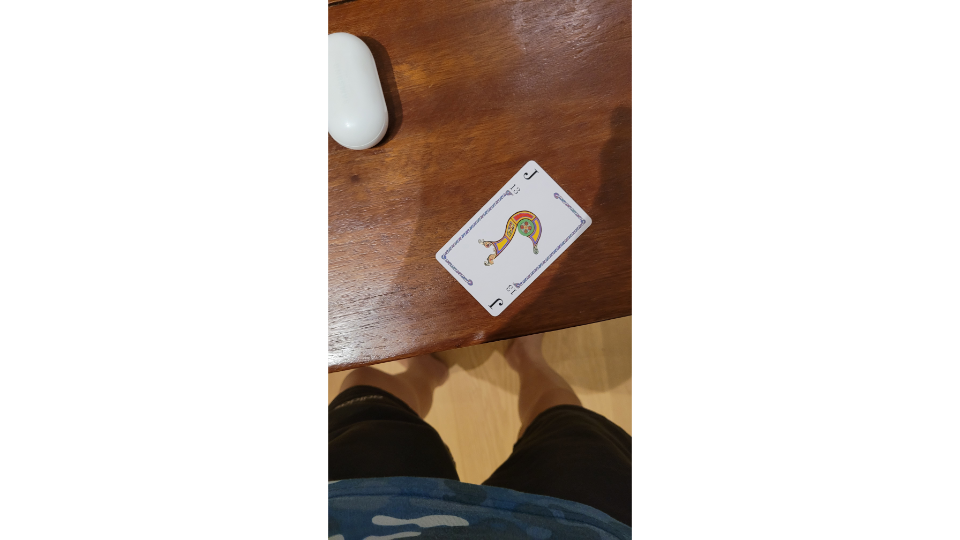J: (432, 157, 596, 320)
